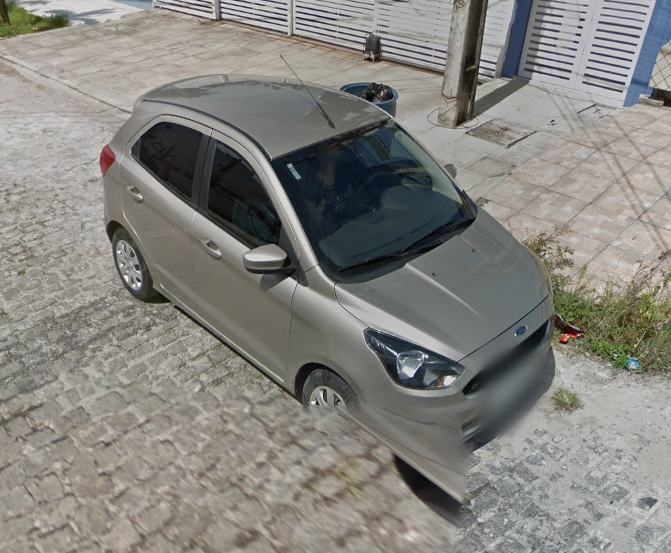car: (95, 51, 560, 477)
